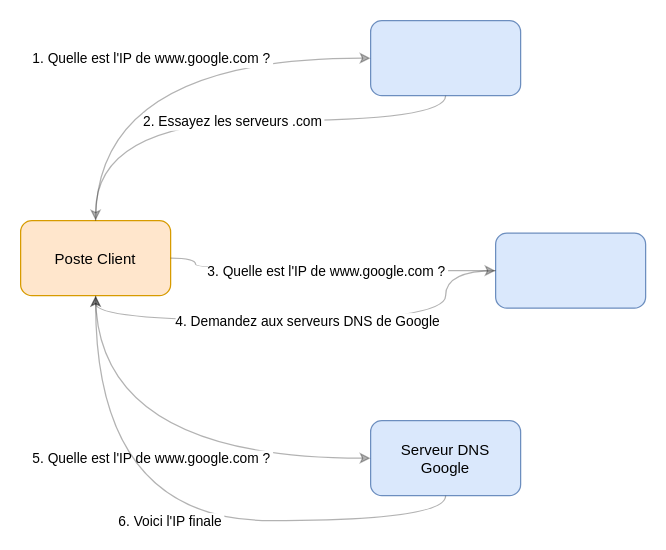
Some shapes in this 666 by 550 pixel diagram are drawn without their labels. Each missing label, with the box of its shape:
Serveur DNS .com: (494, 232, 646, 308)
Serveur DNS Racine: (369, 19, 521, 96)
